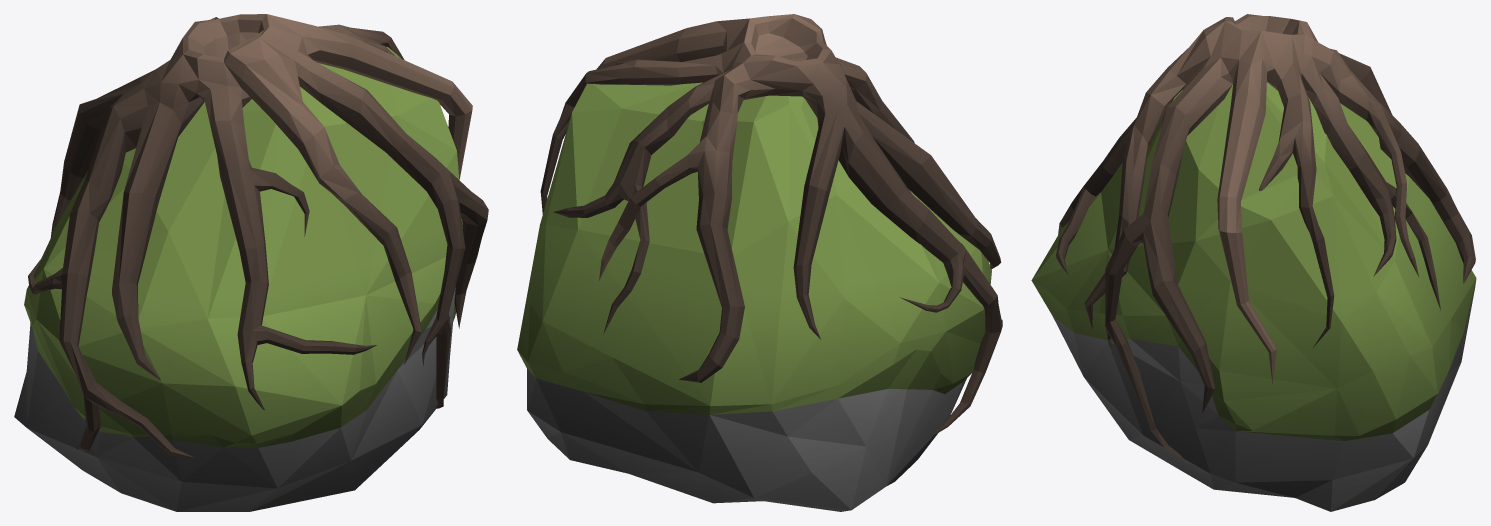
File: Jungle_RootsRock_B.fbx
3 renders of one model, left to right at view 1: azimuth 30°, elevation 25°; view 2: azimuth 150°, elevation 25°; view 3: azimuth 270°, elevation 25°, orthographic. The views are drawn at different scales.
Visible parts, largest first — view 1: Jungle_RootsRock_B; view 2: Jungle_RootsRock_B; view 3: Jungle_RootsRock_B.
Part boxes in pixels (left/top/right/bottom): Jungle_RootsRock_B: left=14, top=14, right=488, bottom=511; Jungle_RootsRock_B: left=517, top=14, right=1002, bottom=511; Jungle_RootsRock_B: left=1031, top=14, right=1476, bottom=511.
Size of the model in its own units: 5.38 by 5.5 by 5.29.
Materials: 1 (1 with a texture image).
